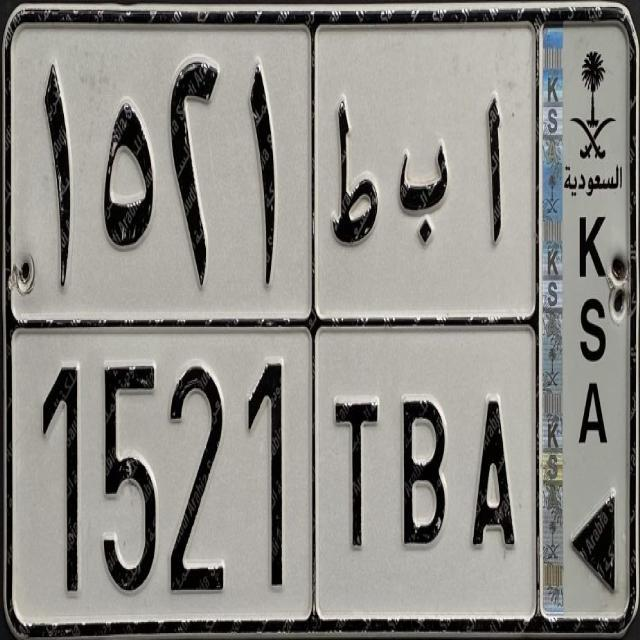license_plate: (6, 1, 638, 632), (6, 312, 544, 630)
